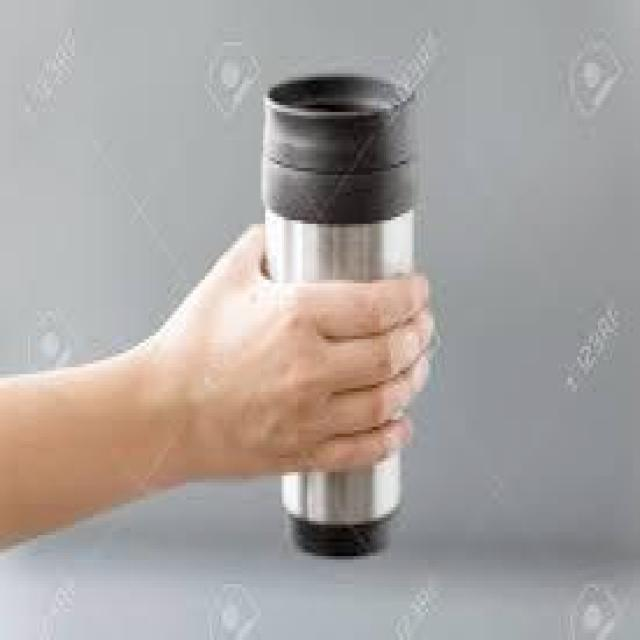bottle: (263, 73, 414, 560)
